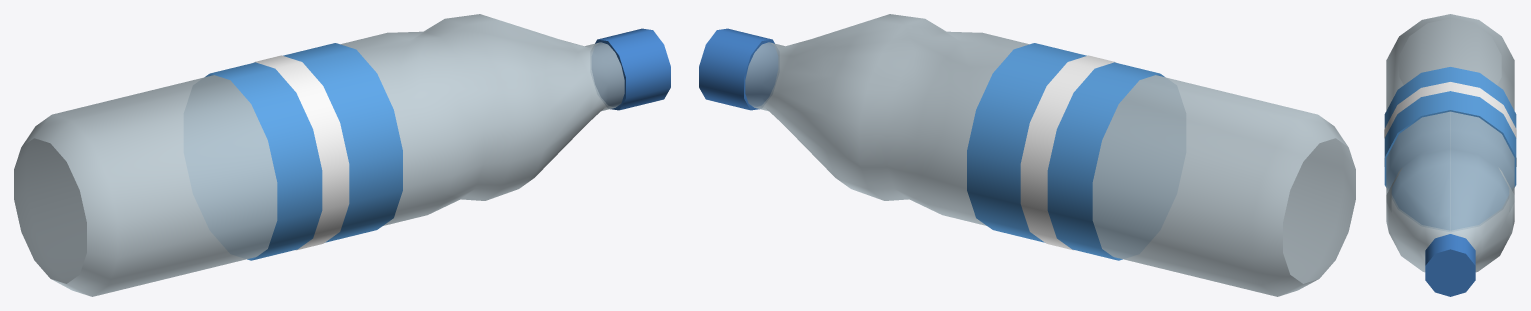
File: bottle_water.fbx
The picture shows the model from 3 angles, left to right: view 1: azimuth 30°, elevation 25°; view 2: azimuth 150°, elevation 25°; view 3: azimuth 270°, elevation 25°; orthographic projection. The views are drawn at different scales.
Parts seen in each view (by area): view 1: bottle_water; view 2: bottle_water; view 3: bottle_water.
Boxes of the visible parts, x1,y1,x2,y2 form: bottle_water: (14,14,670,296); bottle_water: (699,14,1355,296); bottle_water: (1384,14,1516,296).
Size of the model in its own units: 0.335 by 0.093 by 0.0907.
